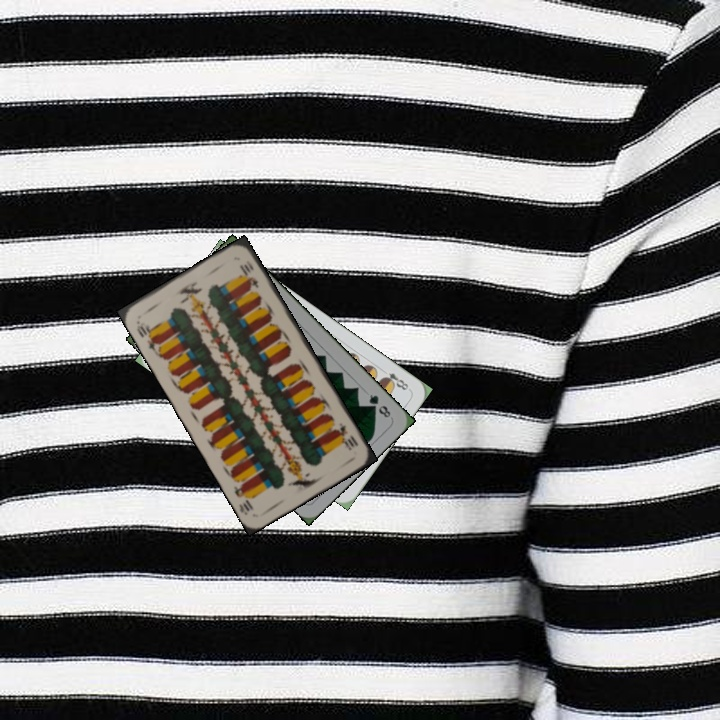E10: (132, 316, 162, 354), (331, 418, 361, 453)
E8: (378, 368, 413, 393)
G8: (365, 390, 393, 420)
